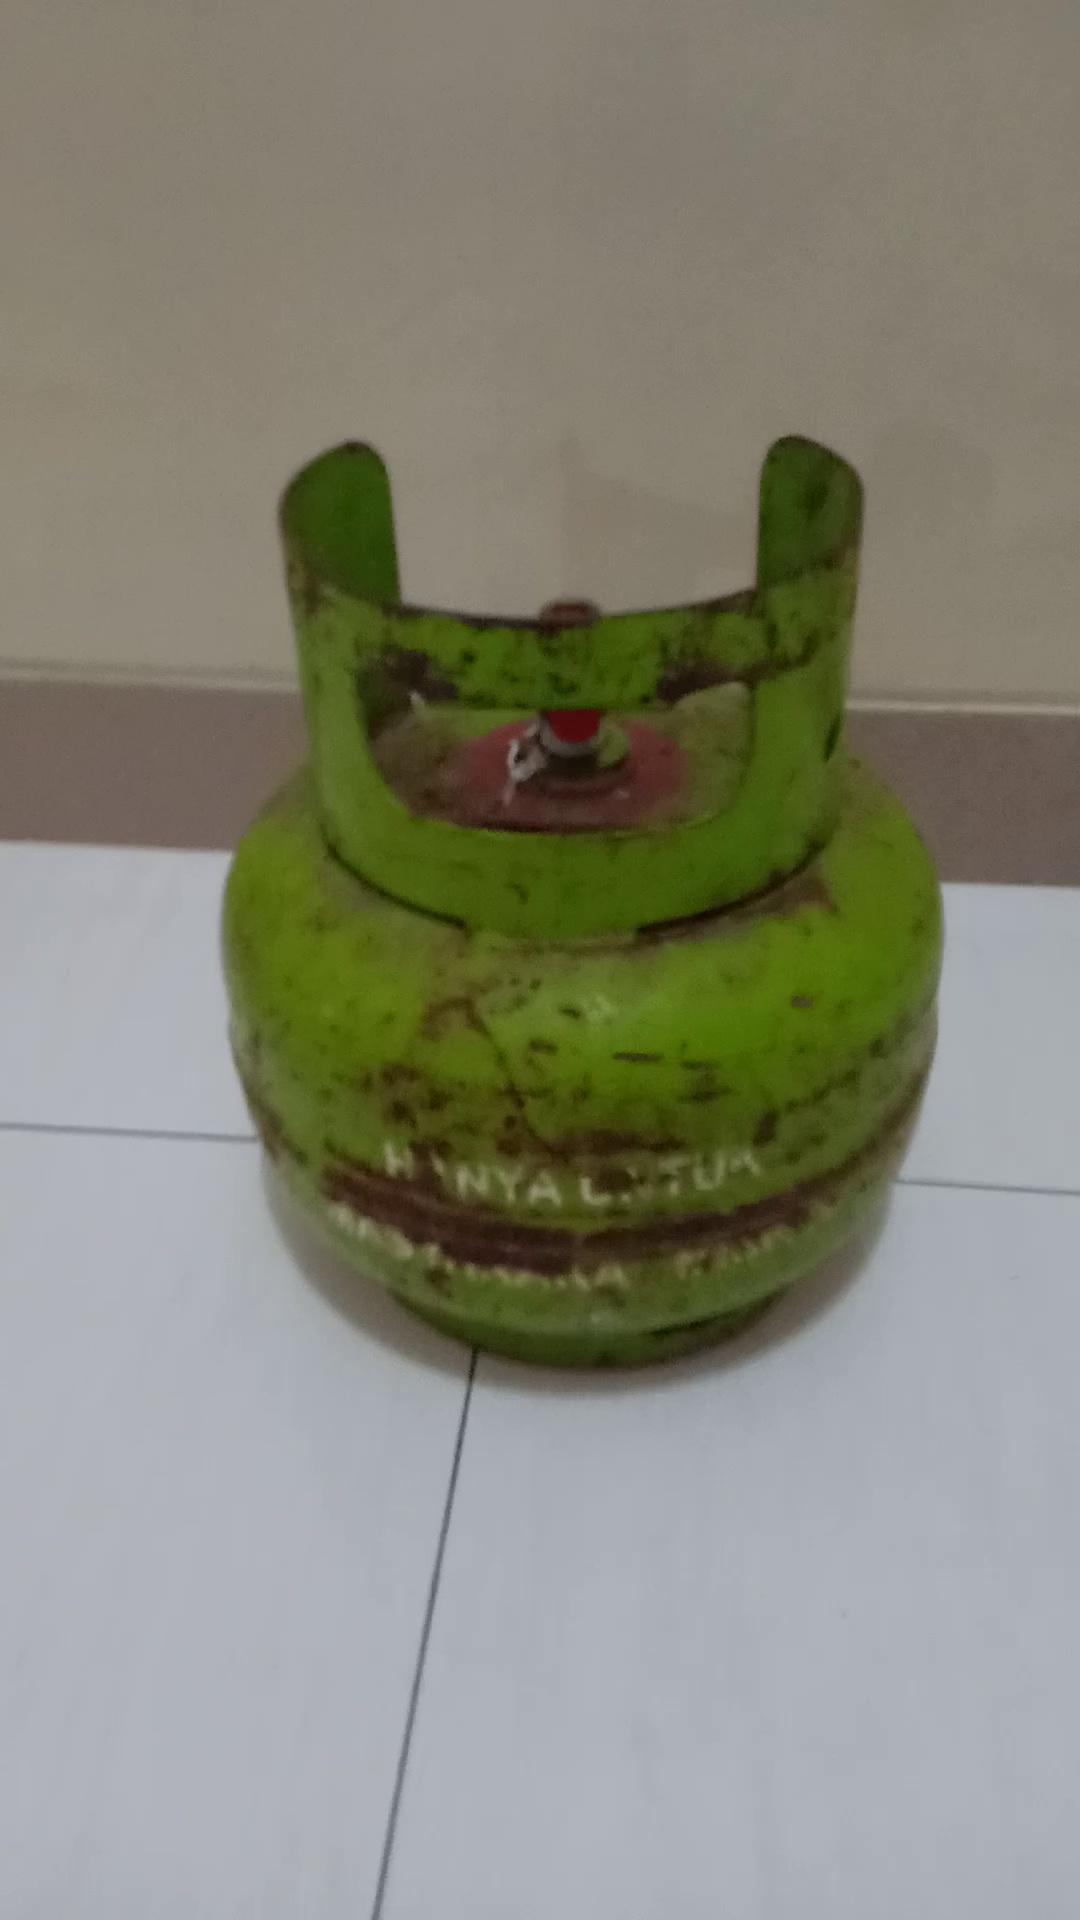gas_ijo: (220, 429, 948, 1379)
